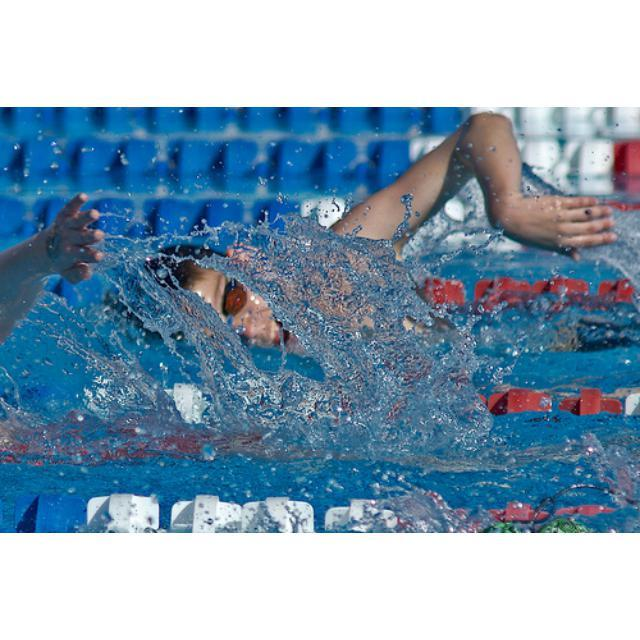human: (127, 114, 618, 398)
